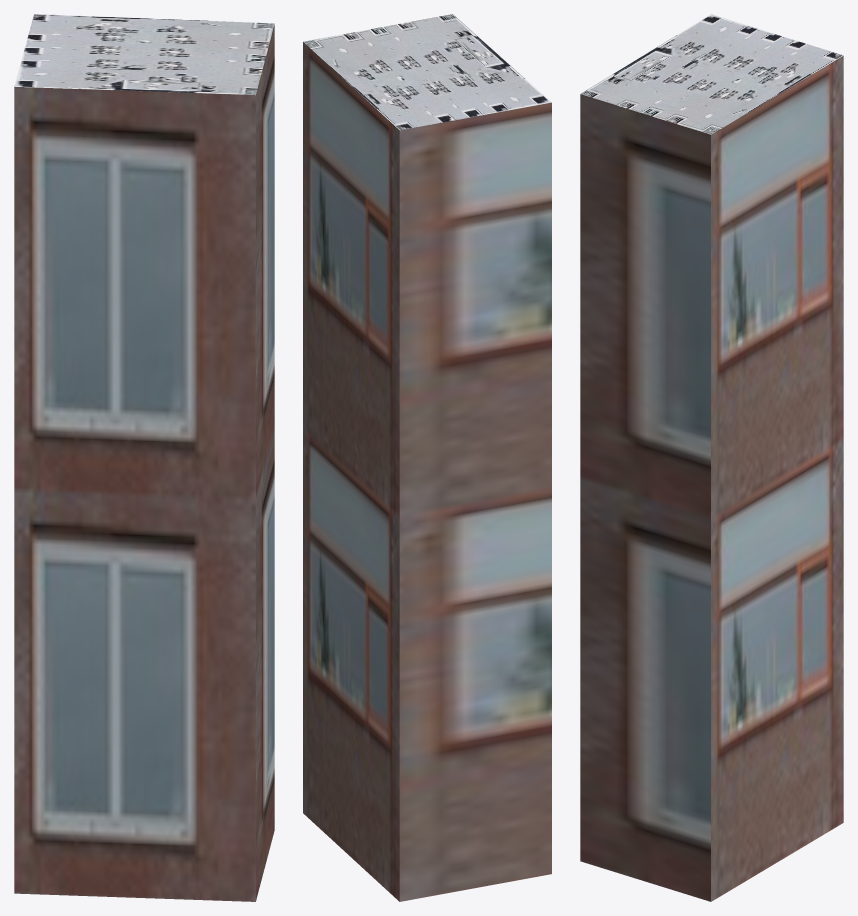
The model's file is ResTex__4298.fbx.
3 renders of one model, left to right at view 1: azimuth 30°, elevation 25°; view 2: azimuth 150°, elevation 25°; view 3: azimuth 270°, elevation 25°, orthographic. The views are drawn at different scales.
Visible parts, largest first — view 1: CityEngineMaterial_19_m, CityEngineMaterial_15_m; view 2: CityEngineMaterial_19_m, CityEngineMaterial_15_m; view 3: CityEngineMaterial_19_m, CityEngineMaterial_15_m.
Part boxes in pixels (x1,y1,x2,y2): CityEngineMaterial_19_m: (14, 24, 274, 901); CityEngineMaterial_15_m: (14, 14, 274, 95); CityEngineMaterial_19_m: (303, 42, 551, 901); CityEngineMaterial_15_m: (303, 14, 551, 130); CityEngineMaterial_19_m: (580, 56, 843, 901); CityEngineMaterial_15_m: (580, 14, 843, 134).
Size of the model in its own units: 2.03 by 6 by 1.87.
Materials: 2 (2 with a texture image).
